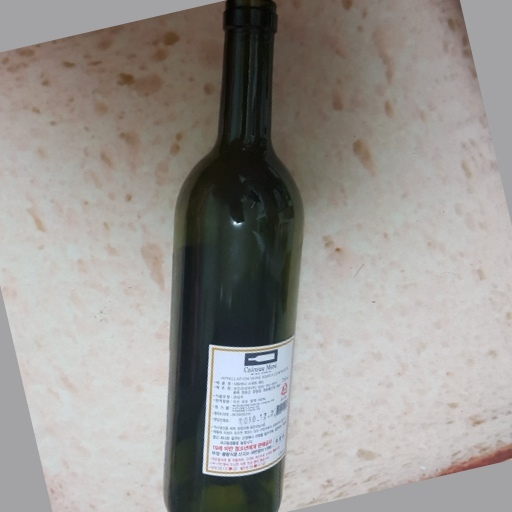Glass_2: (152, 3, 307, 512)
